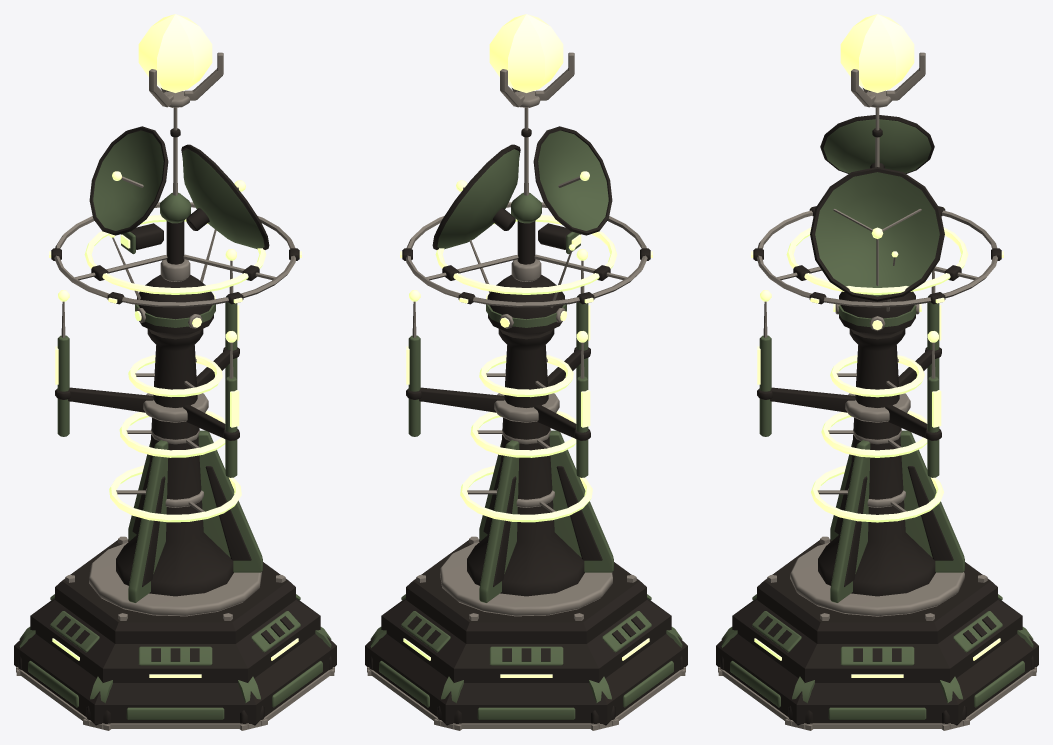
Rendered from tower_beacon.glb.
3 renders of one model, left to right at view 1: azimuth 30°, elevation 25°; view 2: azimuth 150°, elevation 25°; view 3: azimuth 270°, elevation 25°, orthographic.
Visible parts, largest first — view 1: base, spin_1, lvl2, lvl3, tower_beacon, turret; view 2: base, spin_1, lvl2, lvl3, tower_beacon, turret; view 3: base, spin_1, lvl2, lvl3, tower_beacon, turret.
Part boxes in pixels (x1=…): base: x1=14, y1=329, x2=336, y2=730; spin_1: x1=84, y1=52, x2=269, y2=294; lvl2: x1=49, y1=126, x2=301, y2=307; lvl3: x1=55, y1=249, x2=239, y2=477; tower_beacon: x1=138, y1=14, x2=212, y2=92; turret: x1=109, y1=229, x2=216, y2=336; base: x1=365, y1=329, x2=687, y2=730; spin_1: x1=432, y1=52, x2=617, y2=294; lvl2: x1=400, y1=126, x2=652, y2=307; lvl3: x1=406, y1=249, x2=590, y2=477; tower_beacon: x1=489, y1=14, x2=563, y2=92; turret: x1=469, y1=240, x2=575, y2=336; base: x1=716, y1=329, x2=1038, y2=730; spin_1: x1=786, y1=52, x2=968, y2=301; lvl2: x1=751, y1=115, x2=1003, y2=307; lvl3: x1=757, y1=270, x2=941, y2=477; tower_beacon: x1=840, y1=14, x2=914, y2=92; turret: x1=833, y1=251, x2=921, y2=336.
Bounding box in the file's own units: 1.66 × 4.14 × 1.85.
